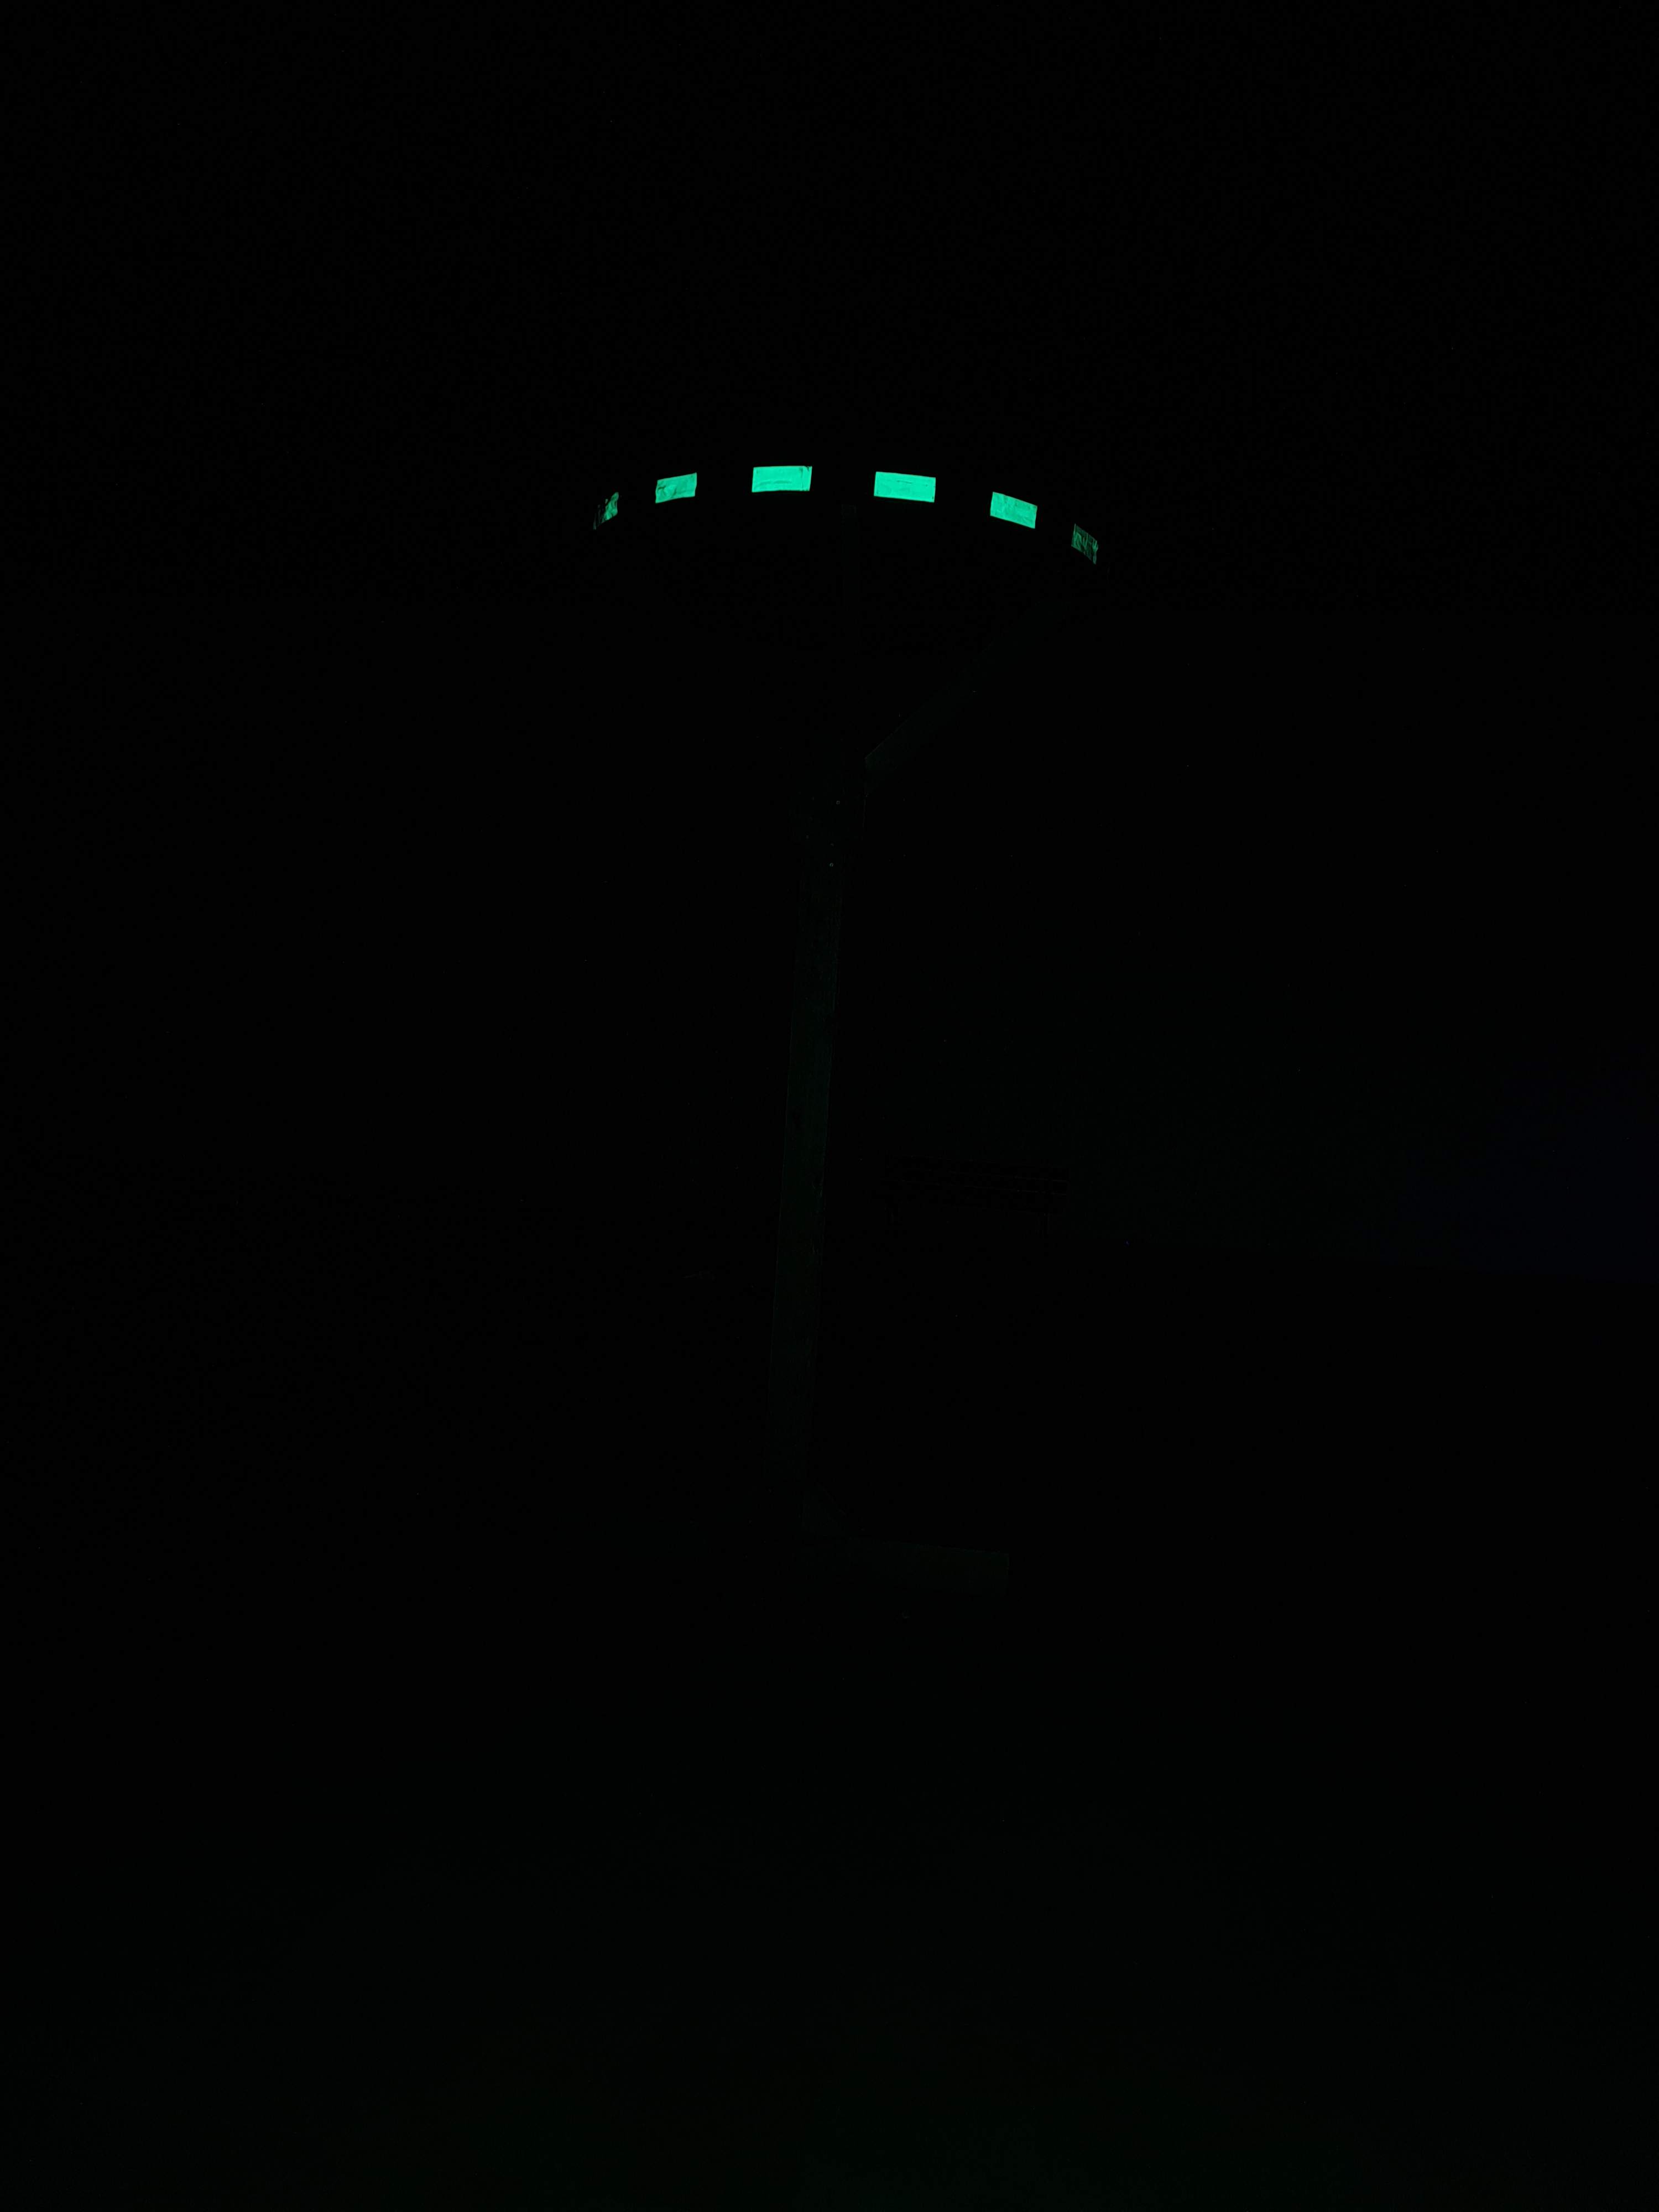hoop: (589, 456, 1108, 577)
